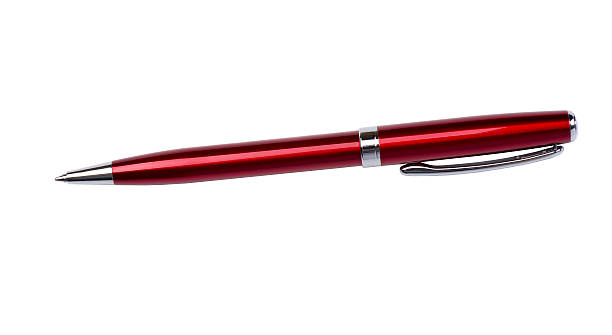pen: (43, 105, 594, 193)
